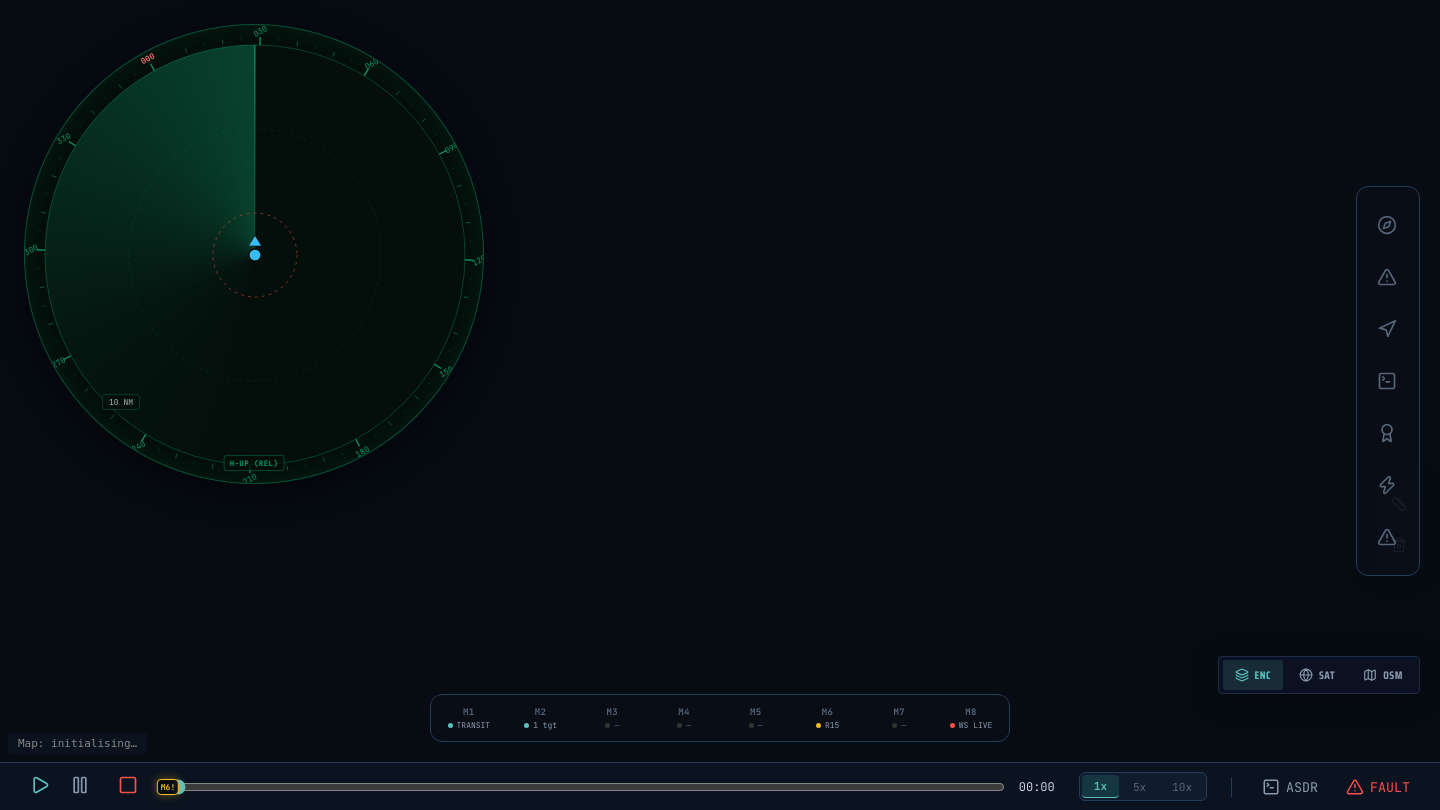
Test: SimulationMonitor › converts ownShip state values with non-zero rudder and throttle
The width and height of the screenshot is (1440, 810).
Click the button with test id "right-tab-ship".
click(1388, 225)  # box [1366,203,1410,247]
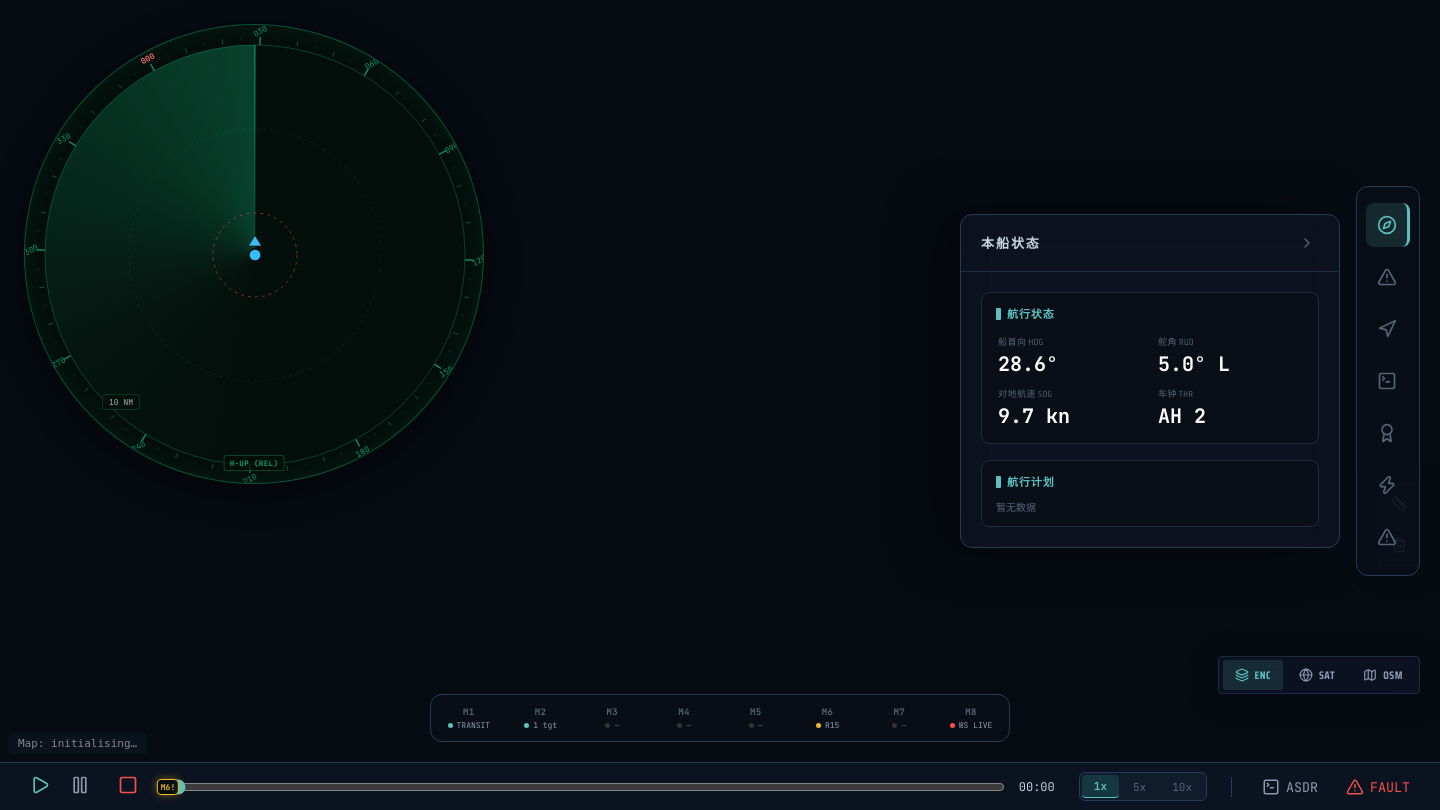
Result: the text "5.0° L" is shown at [1158,351,1230,377]
Result: the text "AH 2" is shown at [1158,403,1206,429]
